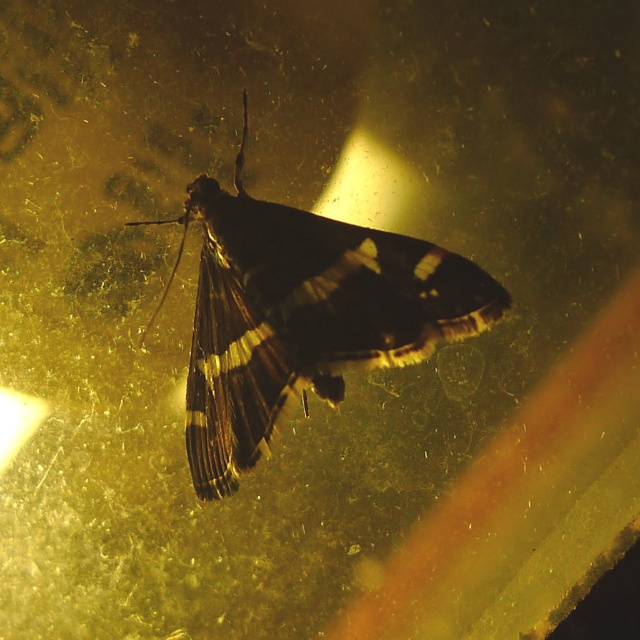Butterfly: (154, 71, 505, 529)
